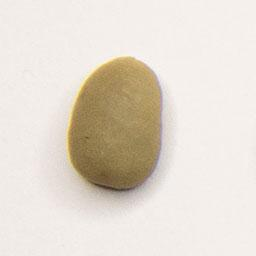premium: (62, 52, 168, 194)
